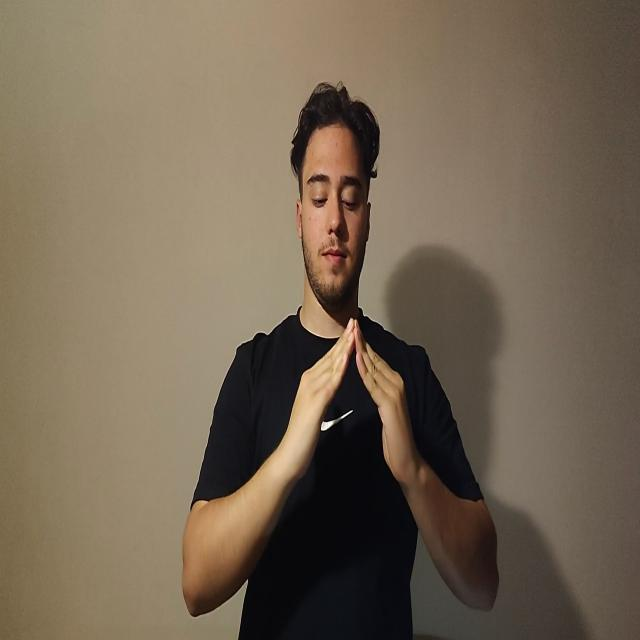house: (278, 314, 422, 498)
